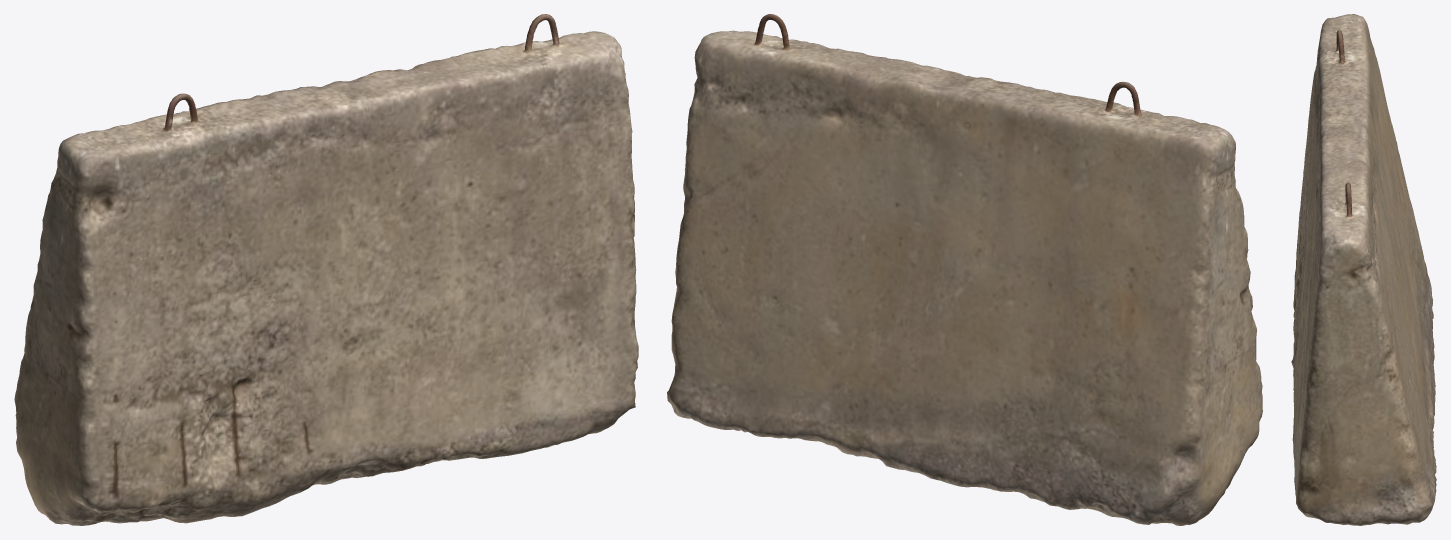
Rendered from barrier.glb.
The picture shows the model from 3 angles, left to right: view 1: azimuth 30°, elevation 25°; view 2: azimuth 150°, elevation 25°; view 3: azimuth 270°, elevation 25°; orthographic projection. The views are drawn at different scales.
Visible parts, largest first — view 1: concrete_road_barrier_02; view 2: concrete_road_barrier_02; view 3: concrete_road_barrier_02.
Boxes of the visible parts, left/top/right/bottom form: concrete_road_barrier_02: left=14, top=14, right=638, bottom=525; concrete_road_barrier_02: left=667, top=14, right=1262, bottom=525; concrete_road_barrier_02: left=1291, top=14, right=1436, bottom=525.
Bounding box in the file's own units: 1.57 × 1.11 × 0.4421.
1 material, 1 textured.
